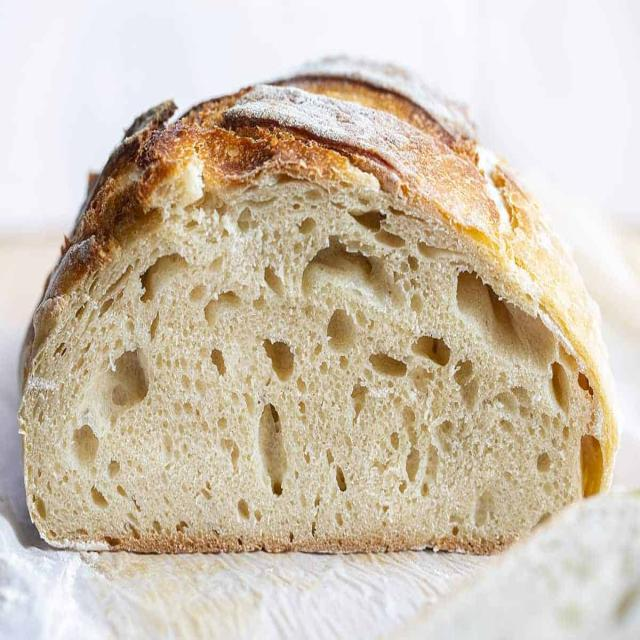Maltese-Bread: (18, 72, 618, 553)
